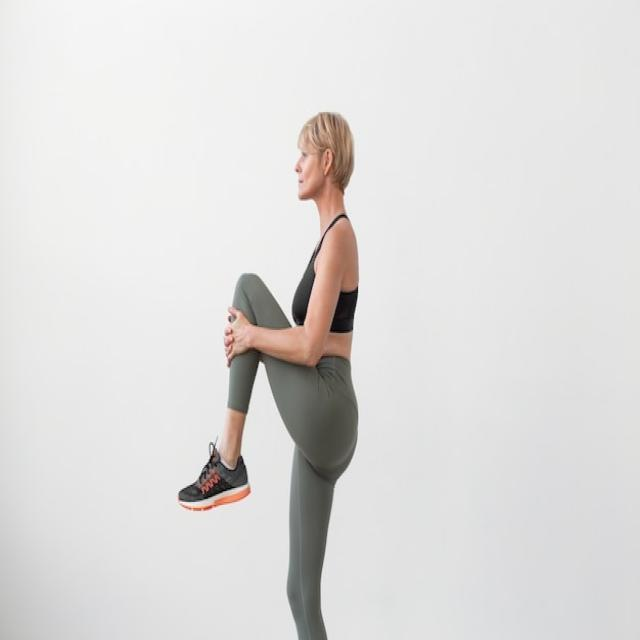Person: (178, 110, 360, 640)
